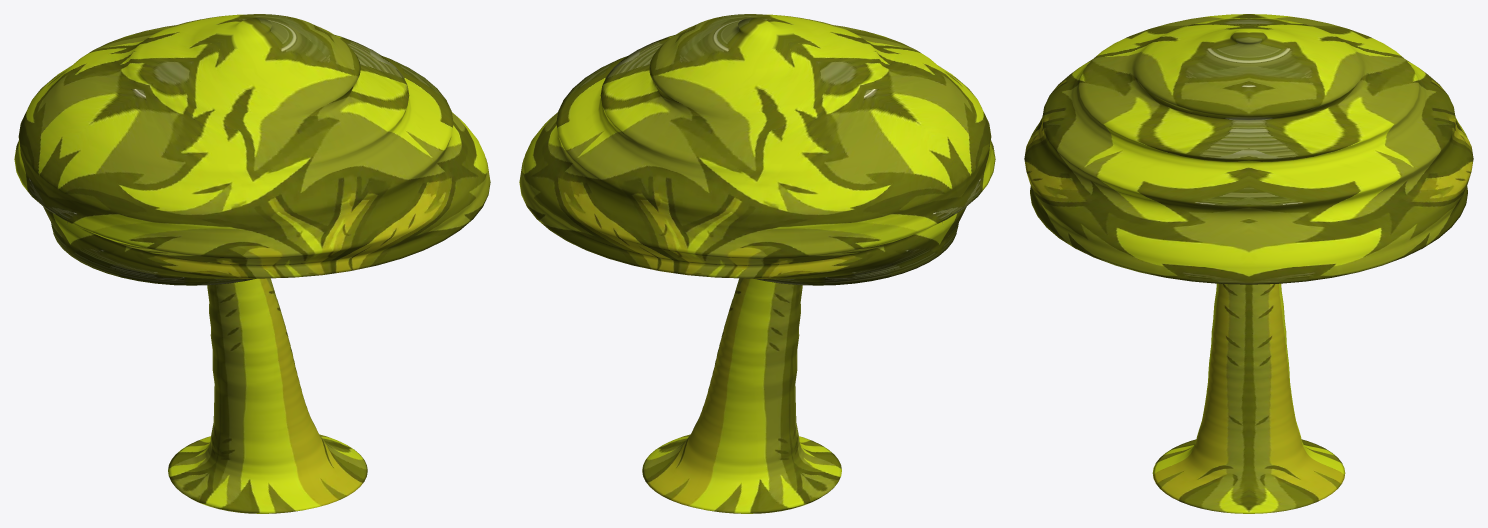
Rendered from edge_tree.glb.
The picture shows the model from 3 angles, left to right: view 1: azimuth 30°, elevation 25°; view 2: azimuth 150°, elevation 25°; view 3: azimuth 270°, elevation 25°; orthographic projection. The views are drawn at different scales.
Parts seen in each view (by area): view 1: edge_tree; view 2: edge_tree; view 3: edge_tree.
Part boxes in pixels (x1,y1,x2,y2): edge_tree: (14,14,490,513); edge_tree: (519,14,995,513); edge_tree: (1024,14,1473,513).
Bounding box in the file's own units: 0.9963 × 1.06 × 0.9706.
1 material, 1 textured.
